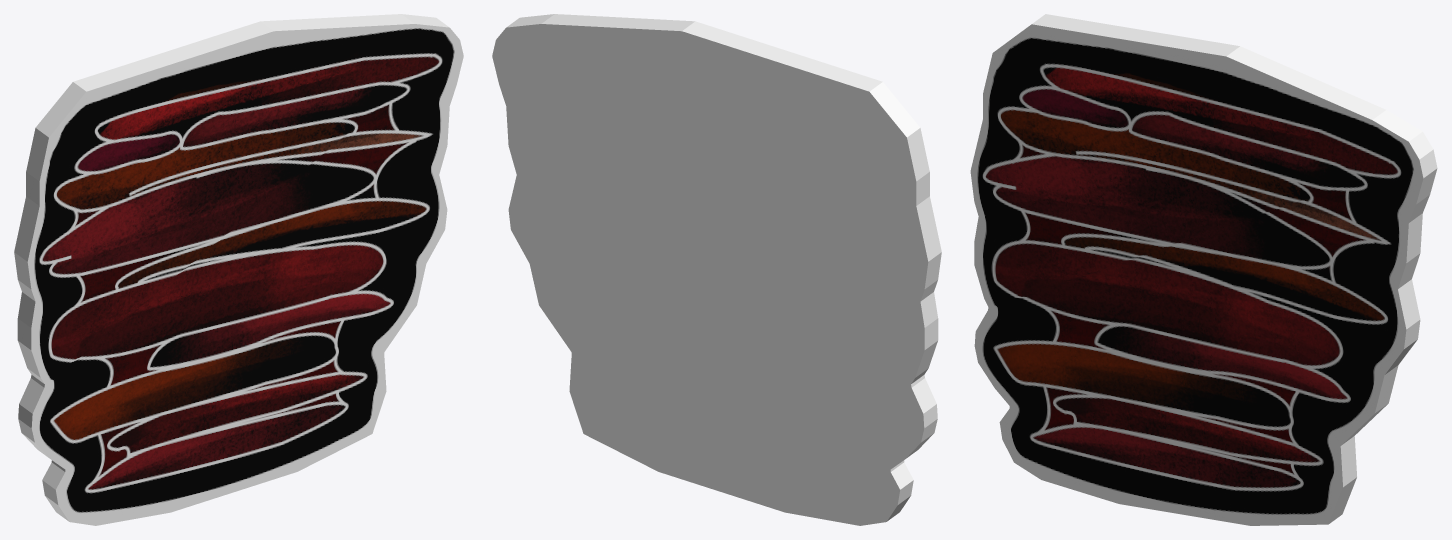
The model's file is ruinable_medium.obj.
The picture shows the model from 3 angles, left to right: view 1: azimuth 30°, elevation 25°; view 2: azimuth 150°, elevation 25°; view 3: azimuth 330°, elevation 25°; orthographic projection. The views are drawn at different scales.
Parts seen in each view (by area): view 1: MeshBody1; view 2: MeshBody1; view 3: MeshBody1.
Part boxes in pixels (x1=…): MeshBody1: x1=14, y1=14, x2=463, y2=525; MeshBody1: x1=492, y1=14, x2=941, y2=525; MeshBody1: x1=970, y1=14, x2=1437, y2=525.
Size of the model in its own units: 0.9306 by 0.93 by 0.05.
